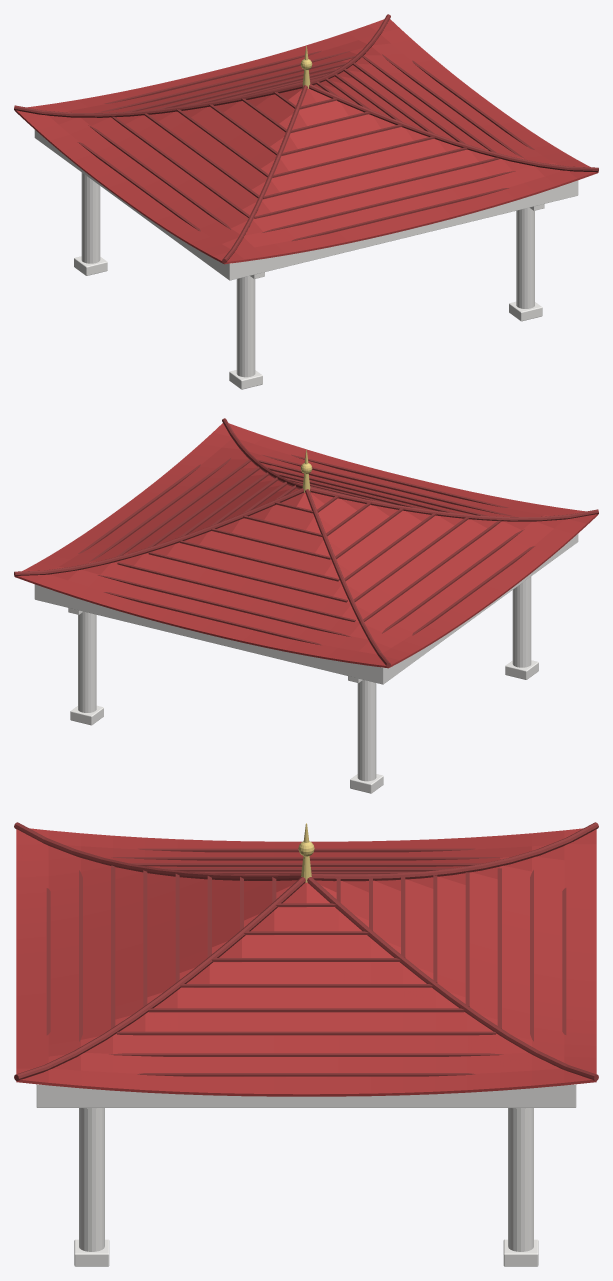
The model's file is n03-kanopi-merah-rektorat.glb.
3 views of the same model, one above another, from view 1: azimuth 30°, elevation 25°; view 2: azimuth 150°, elevation 25°; view 3: azimuth 270°, elevation 25° (orthographic). The views are drawn at different scales.
Visible parts, largest first — view 1: EX_unri:genteng-merah, EX_unri:rusuk-merah, EX_unri:kolom-putih; view 2: EX_unri:genteng-merah, EX_unri:rusuk-merah, EX_unri:kolom-putih; view 3: EX_unri:genteng-merah, EX_unri:rusuk-merah, EX_unri:kolom-putih.
Part boxes in pixels (x1=…): EX_unri:genteng-merah: x1=14, y1=19, x2=598, y2=264; EX_unri:rusuk-merah: x1=14, y1=14, x2=598, y2=263; EX_unri:kolom-putih: x1=34, y1=130, x2=578, y2=389; EX_unri:genteng-merah: x1=14, y1=423, x2=598, y2=668; EX_unri:rusuk-merah: x1=14, y1=418, x2=598, y2=667; EX_unri:kolom-putih: x1=34, y1=534, x2=578, y2=793; EX_unri:genteng-merah: x1=16, y1=828, x2=596, y2=1096; EX_unri:rusuk-merah: x1=14, y1=822, x2=598, y2=1080; EX_unri:kolom-putih: x1=36, y1=1084, x2=576, y2=1266.
Size of the model in its own units: 10.38 by 6.48 by 10.09.
